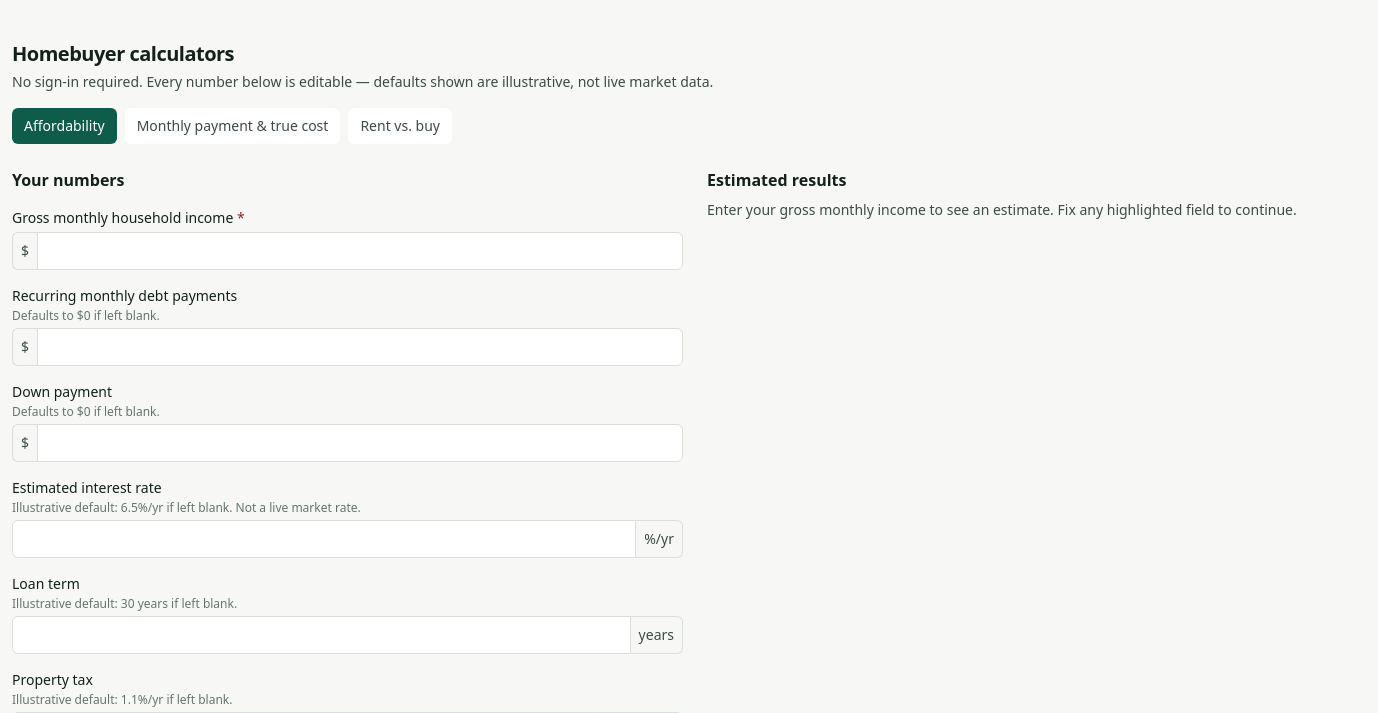
Scenario: CalculatorsSection accessibility › rejects a down payment at or above the purchase price with an accessible, field-adjacent error
The width and height of the screenshot is (1378, 713).
Click the tab "Monthly payment & true cost" at (233, 126), box [125,108,340,144]
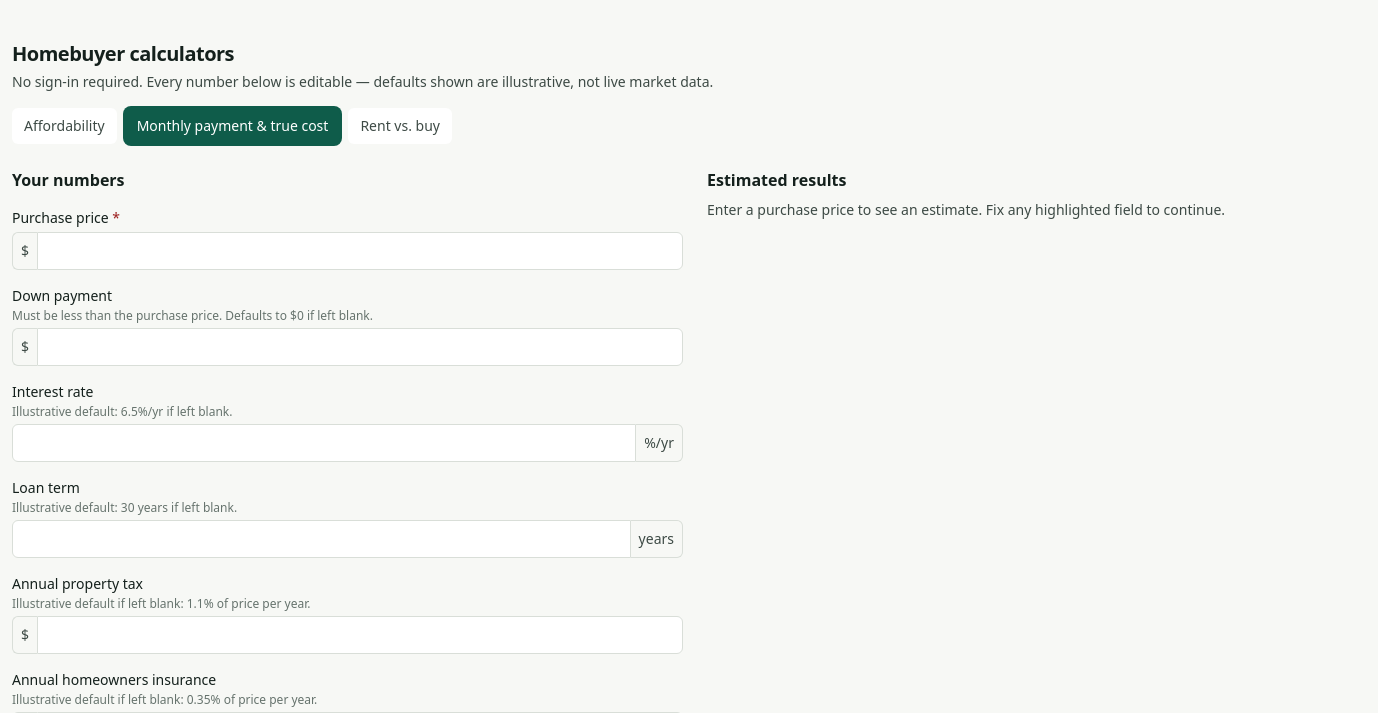
Type "300000" into the number field labelled "Purchase price *" at (360, 251), box [37,232,683,270]
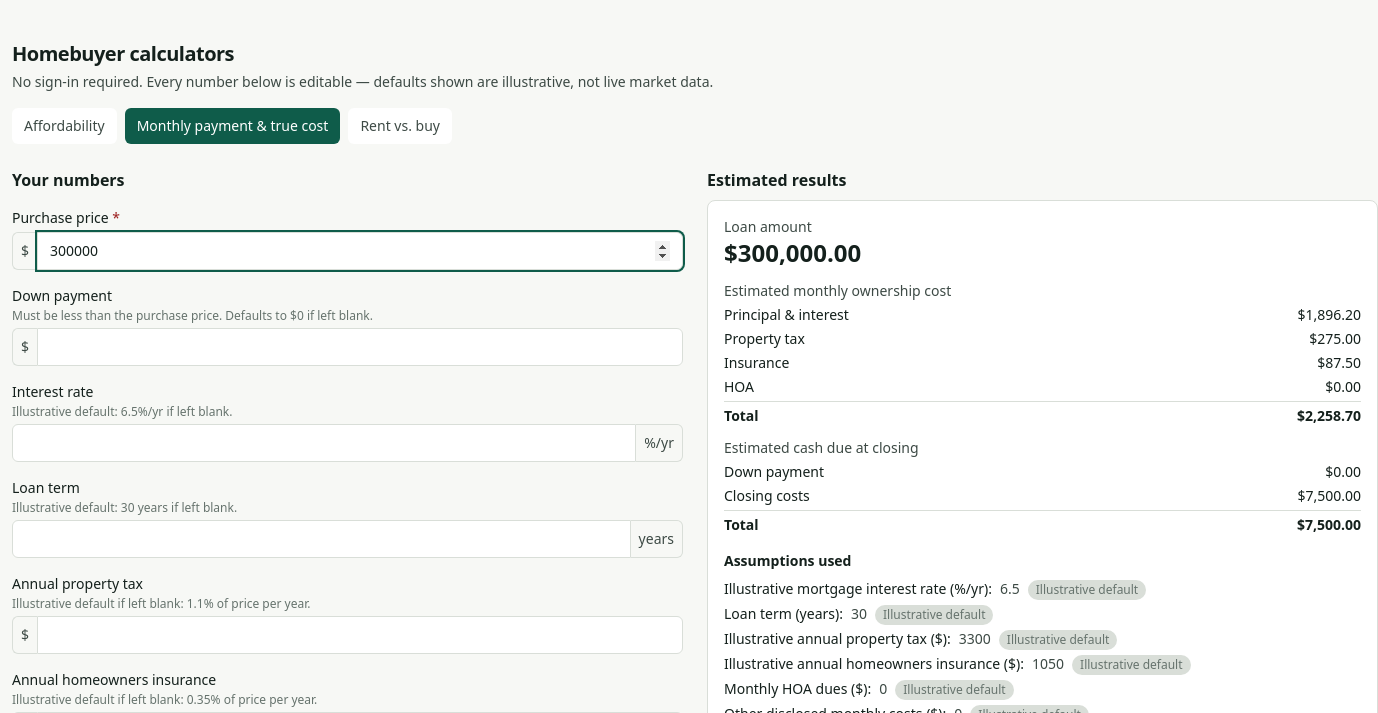
Type "300000" into the number field labelled "Down payment" at (360, 347), box [37,328,683,366]
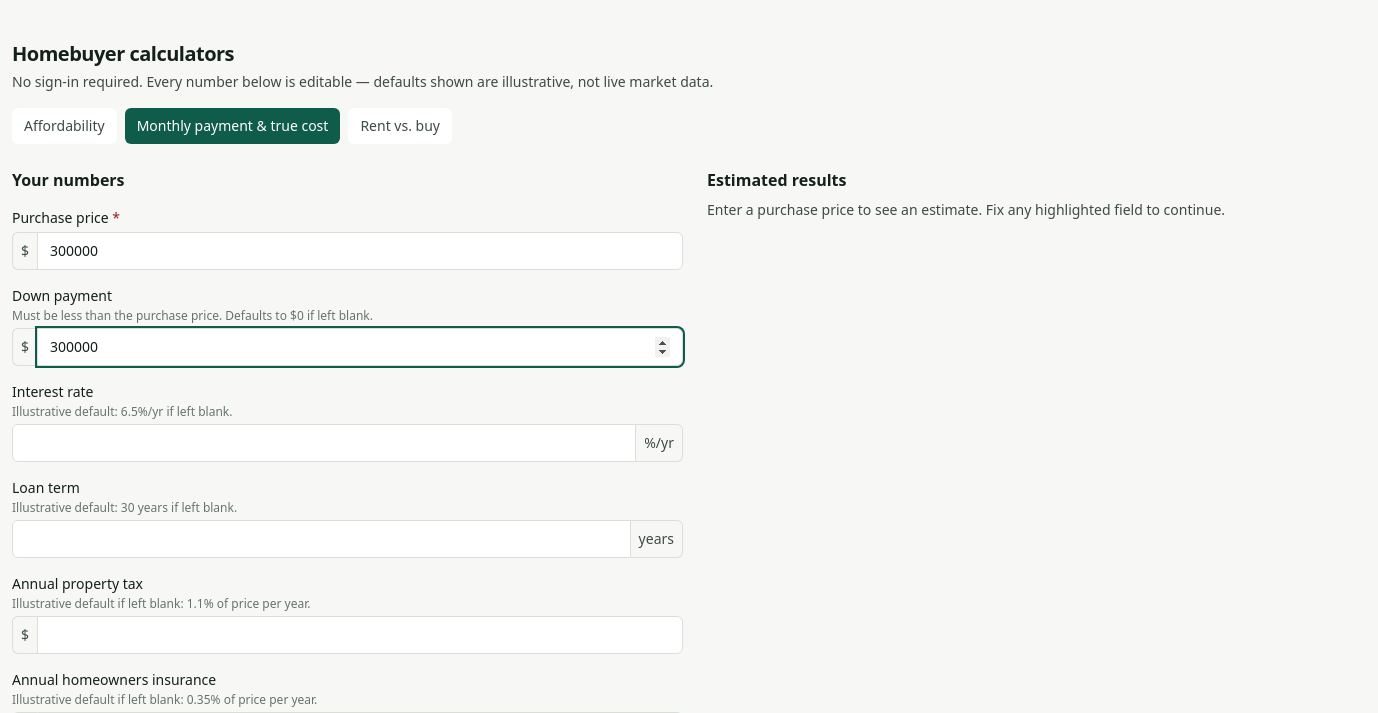
Press Tab
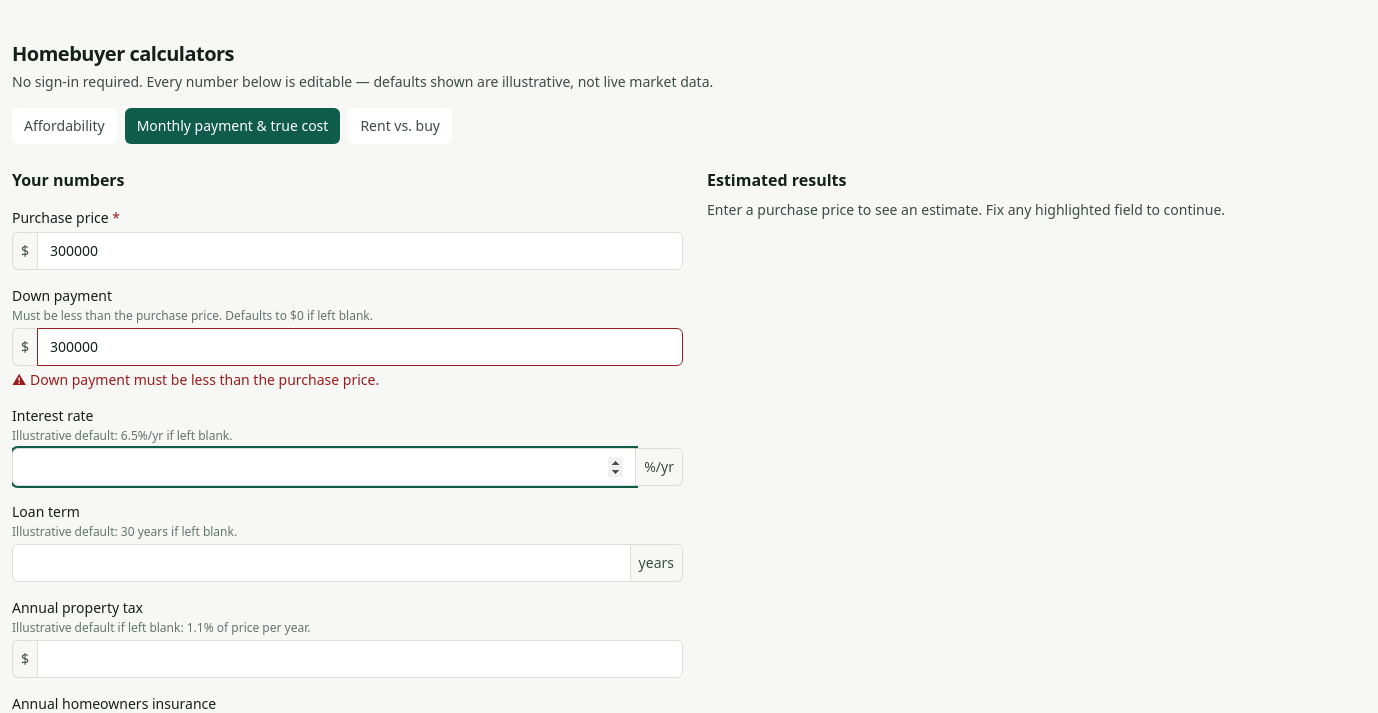
Expected: the message "⚠ Down payment must be less than the purchase price." is shown, [12,370,379,389]
